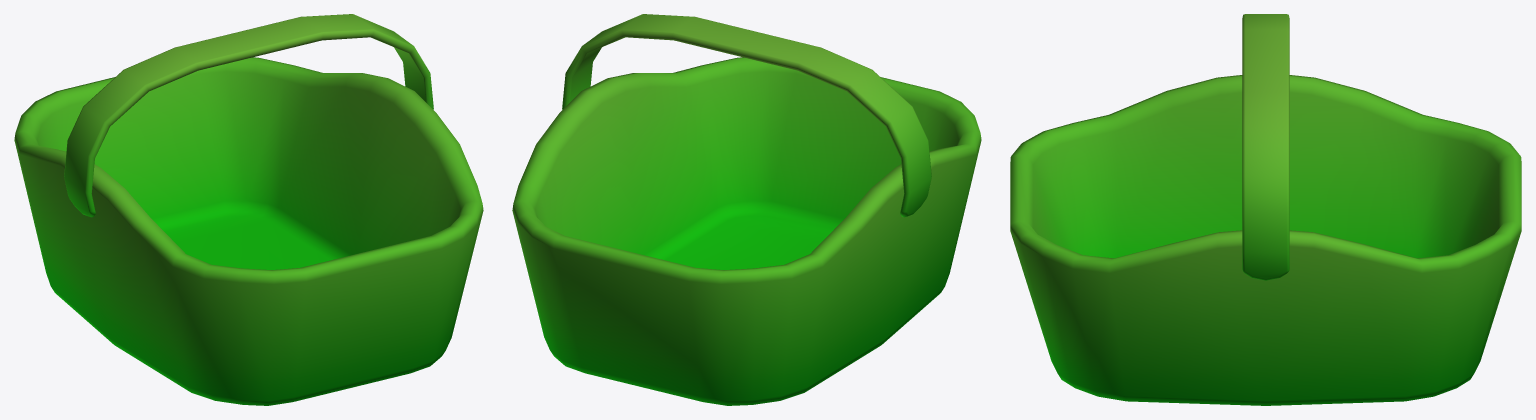
Rendered from basket_green_smile.fbx.
3 renders of one model, left to right at view 1: azimuth 30°, elevation 25°; view 2: azimuth 150°, elevation 25°; view 3: azimuth 270°, elevation 25°, orthographic.
Visible parts, largest first — view 1: basket_green_smile; view 2: basket_green_smile; view 3: basket_green_smile.
Boxes of the visible parts, left/top/right/bottom form: basket_green_smile: left=14, top=14, right=483, bottom=405; basket_green_smile: left=512, top=14, right=981, bottom=405; basket_green_smile: left=1010, top=14, right=1521, bottom=405.
Size of the model in its own units: 87.86 by 109 by 66.41.
1 material, 1 textured.
